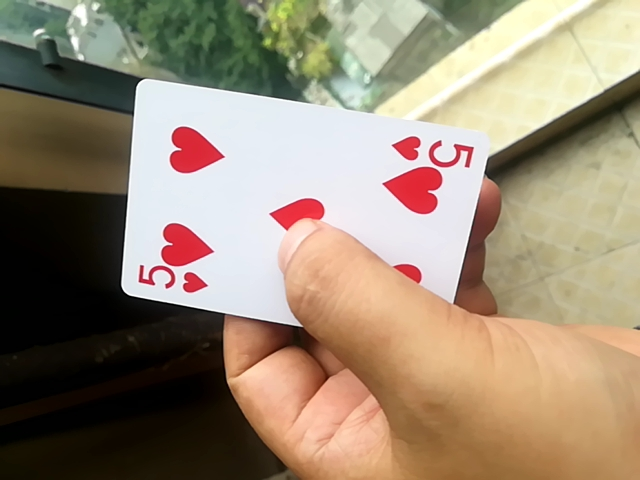hx 5: (123, 80, 490, 336)
